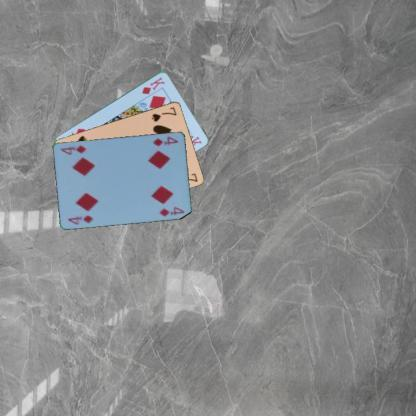4d: (150, 134, 180, 148), (66, 212, 95, 226)
7s: (149, 103, 178, 122)
Kd: (139, 74, 166, 96)
